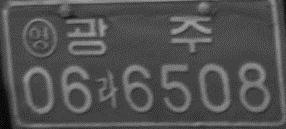0: (197, 63, 232, 113), (22, 66, 54, 115)
5: (159, 63, 192, 113)
6: (120, 64, 153, 114), (60, 65, 93, 114)
8: (237, 62, 270, 114)
광주_D: (64, 16, 213, 56)
라: (95, 68, 120, 109)
영: (21, 16, 59, 59)
